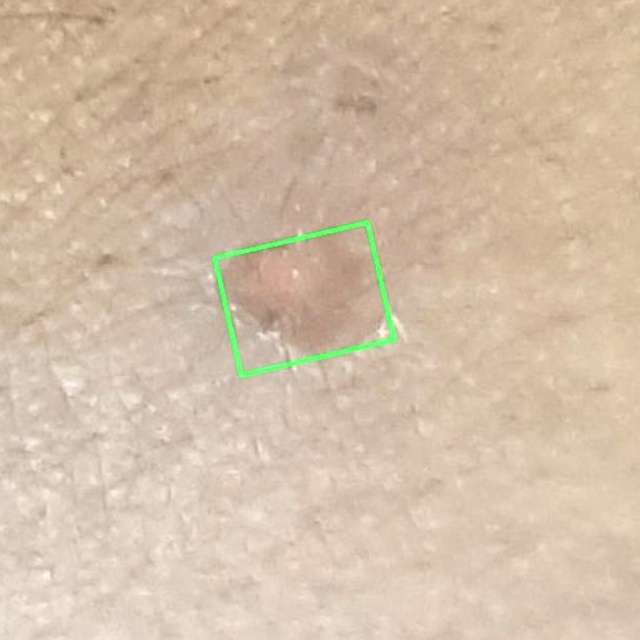Atopic Dermatitis: (213, 221, 394, 374)
